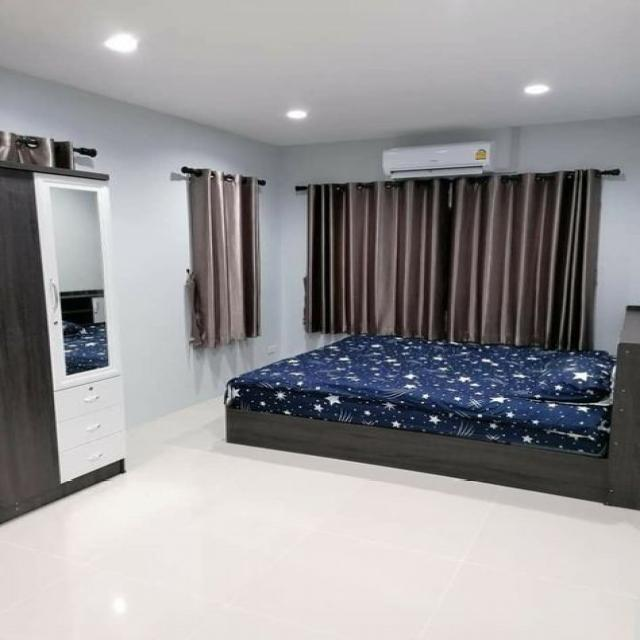AC: (379, 138, 495, 175)
Lemari: (0, 160, 125, 526)
